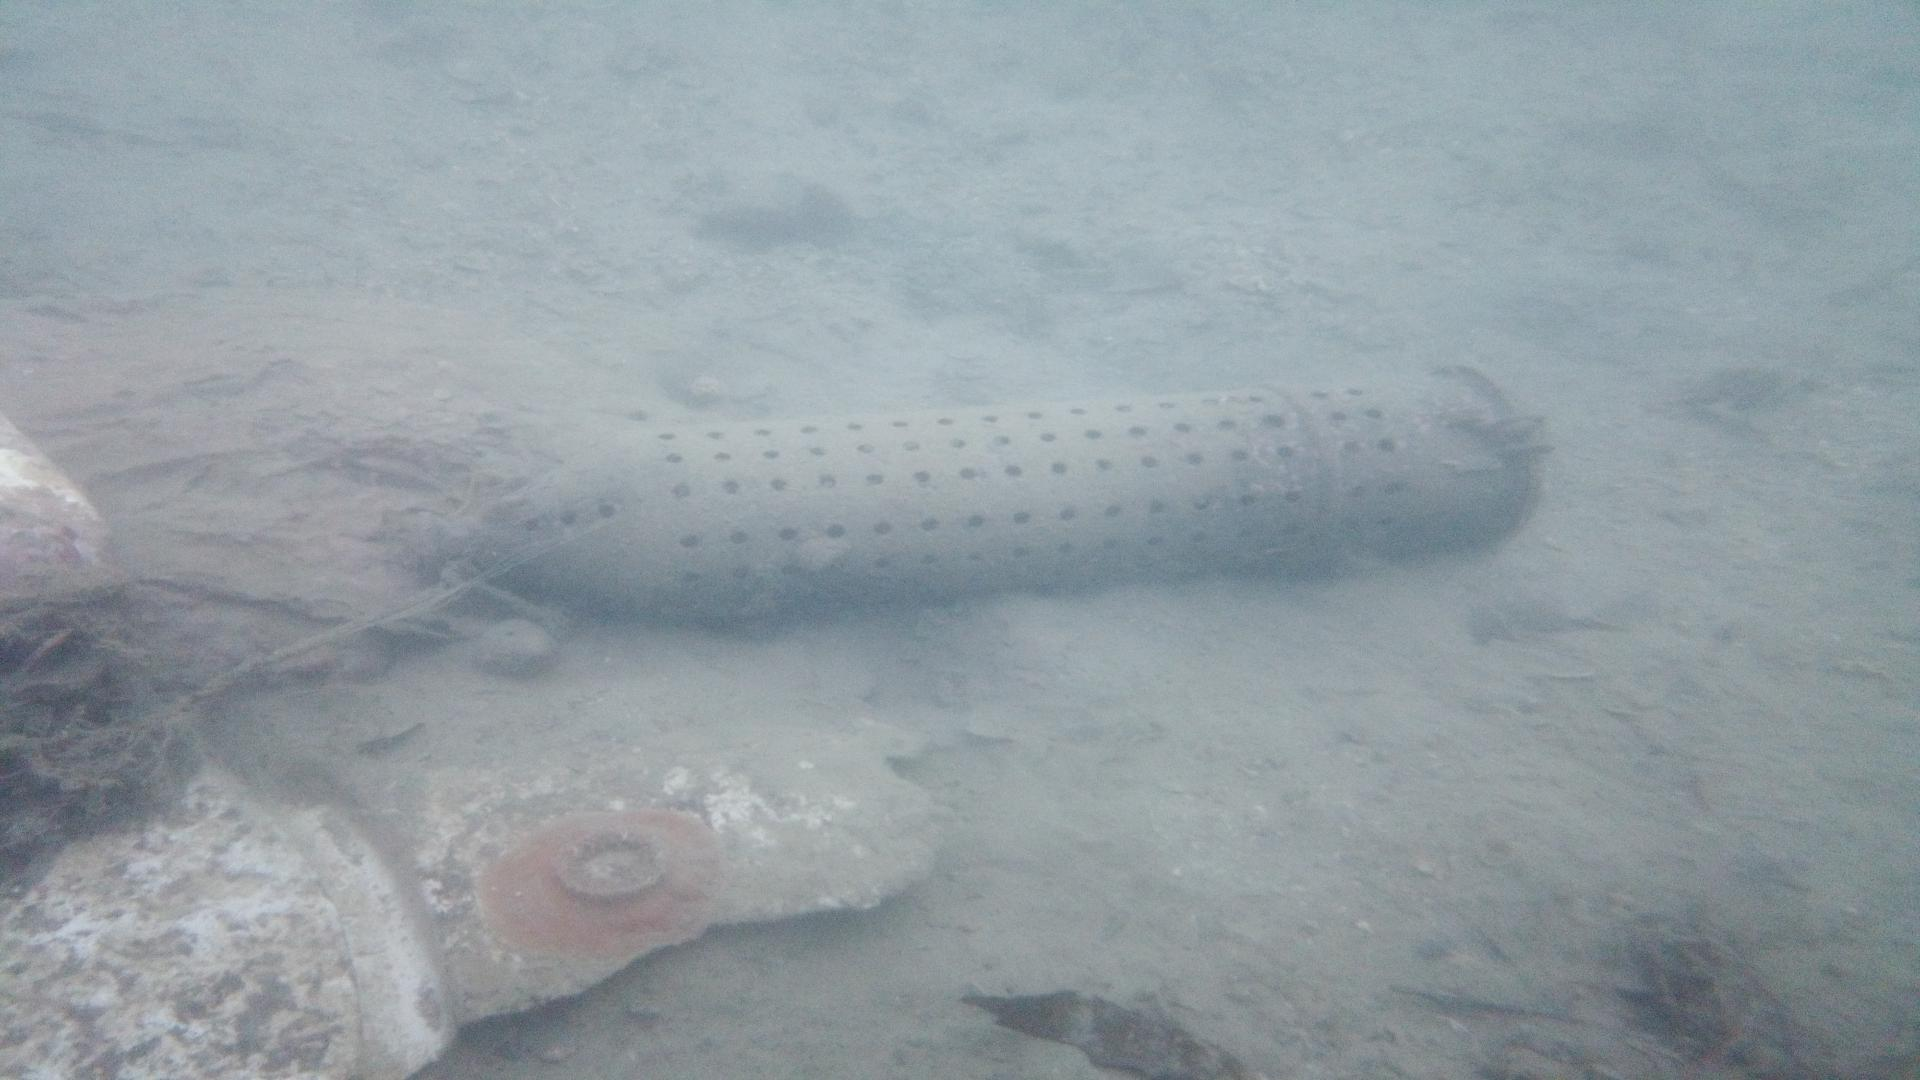eel fish trap: (476, 353, 1553, 626)
